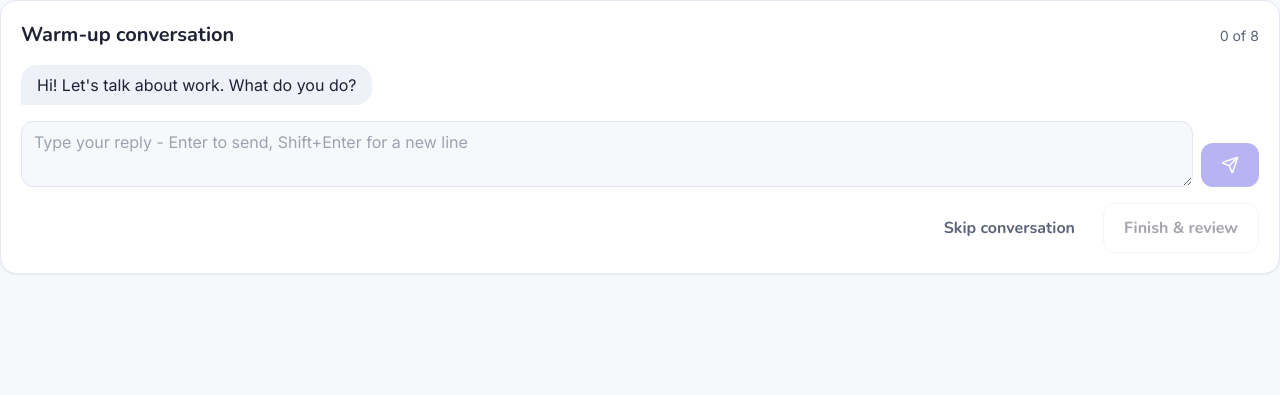
Test: ConversationPanel › offline keeps the text: 503 shows the offline state, Try again resends the same text
In the text box named "Your message": (607,154) [21,121,1193,187], type "Are you there?"
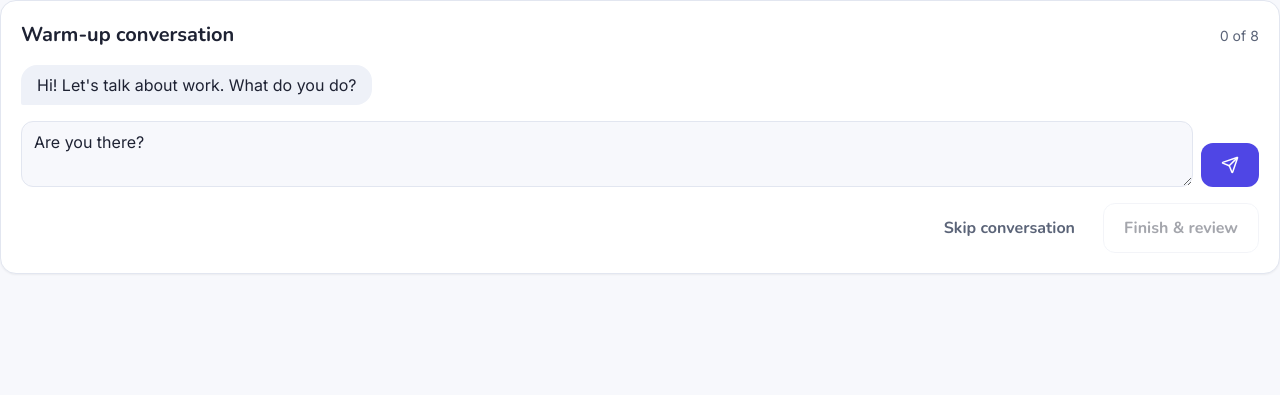
Press Enter in the text box named "Your message", box [21,121,1193,187]
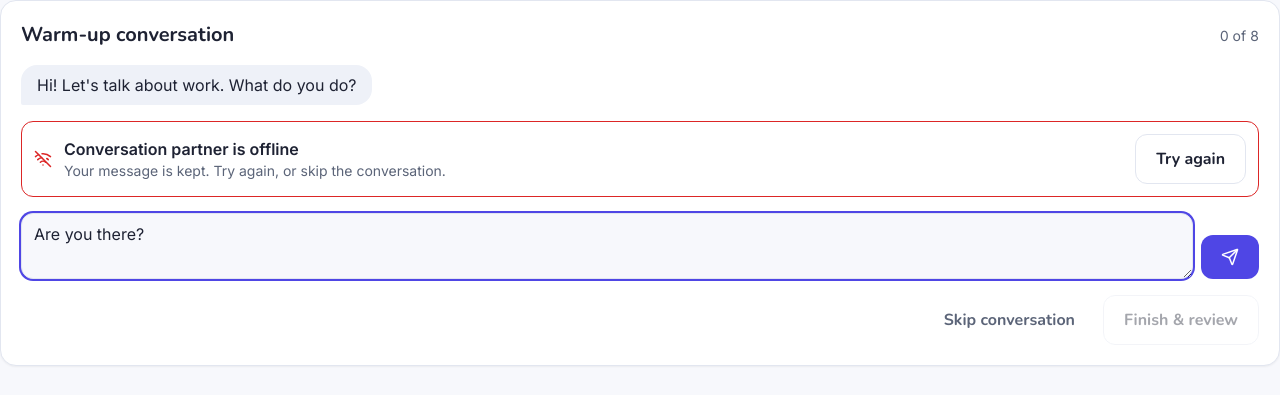
Expected: the button "Skip conversation" is shown, [928,295,1091,345]
Now the text "Conversation partner is offline" is shown, box [64,139,299,159]
Click the button "Try again": (1191,159) [1135,134,1246,184]
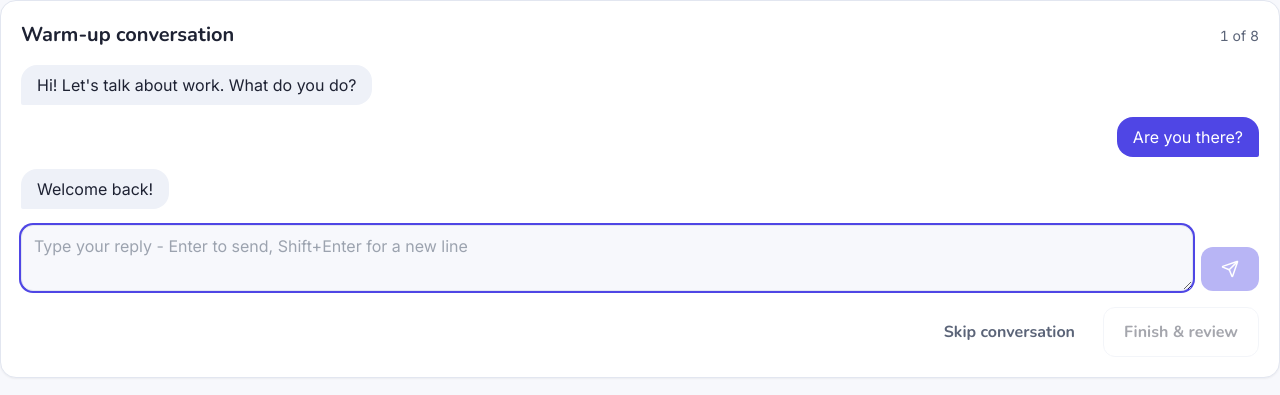
Expected: the text box named "Your message" is enabled, [21,225,1193,291]
Now the text "Welcome back!" is shown, box [21,169,169,209]
Now the text "Conversation partner is offline" is gone
